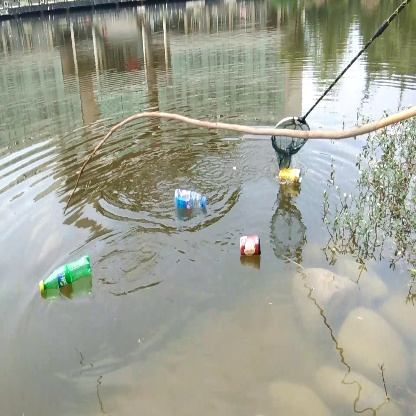bottle: (41, 256, 94, 297), (171, 187, 211, 213), (237, 232, 261, 259), (277, 165, 304, 186)
